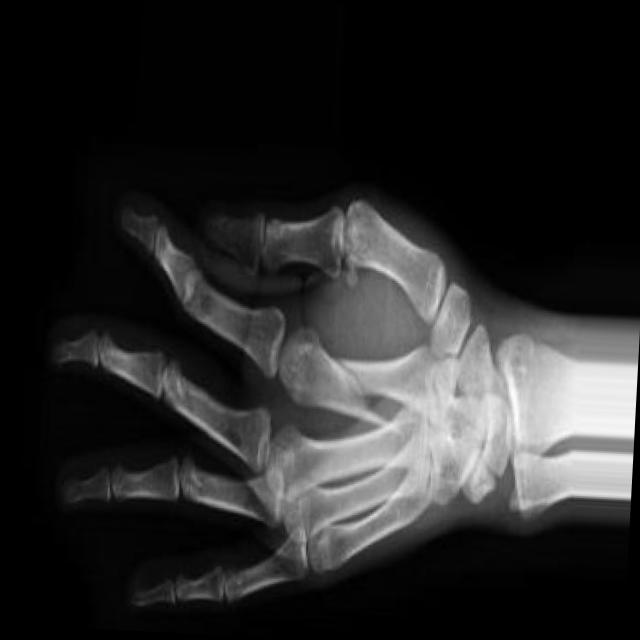fracture: (324, 335, 370, 410)
